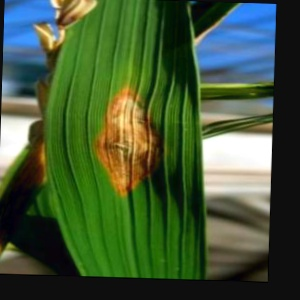Brown_Spot: (83, 77, 167, 224)
